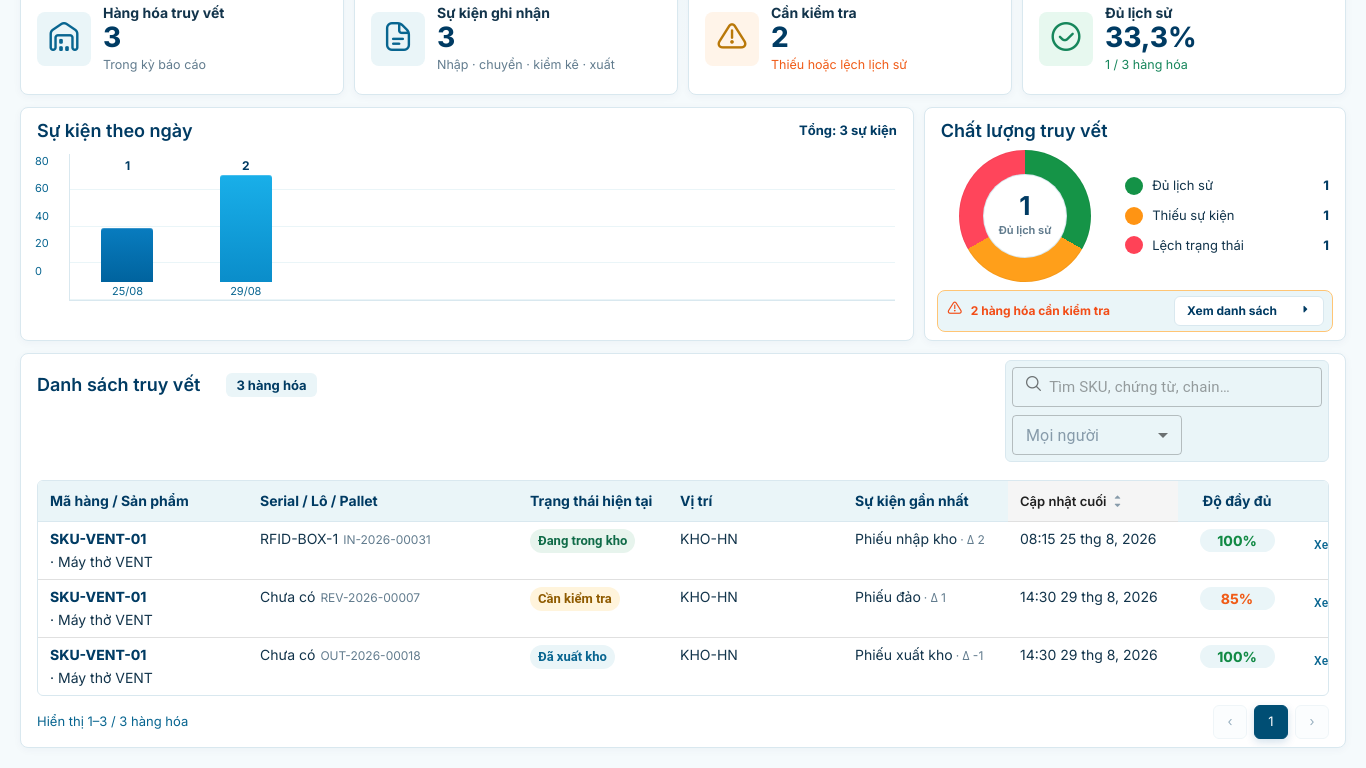
Test: RPT-MOV-01 · Truy vết hàng hóa › bấm một dòng ledger mở drawer bằng chứng chỉ đọc của đúng movement
The width and height of the screenshot is (1366, 768).
(page scrolled)
Expected: the text "OUT-2026-00018" is shown, top-left (320, 646), bottom-right (421, 666)
What coordinates should you click on to do the following:
click the text "OUT-2026-00018"
I would click on:
 (98, 654)
Its box is top-left (38, 637), bottom-right (1365, 695).
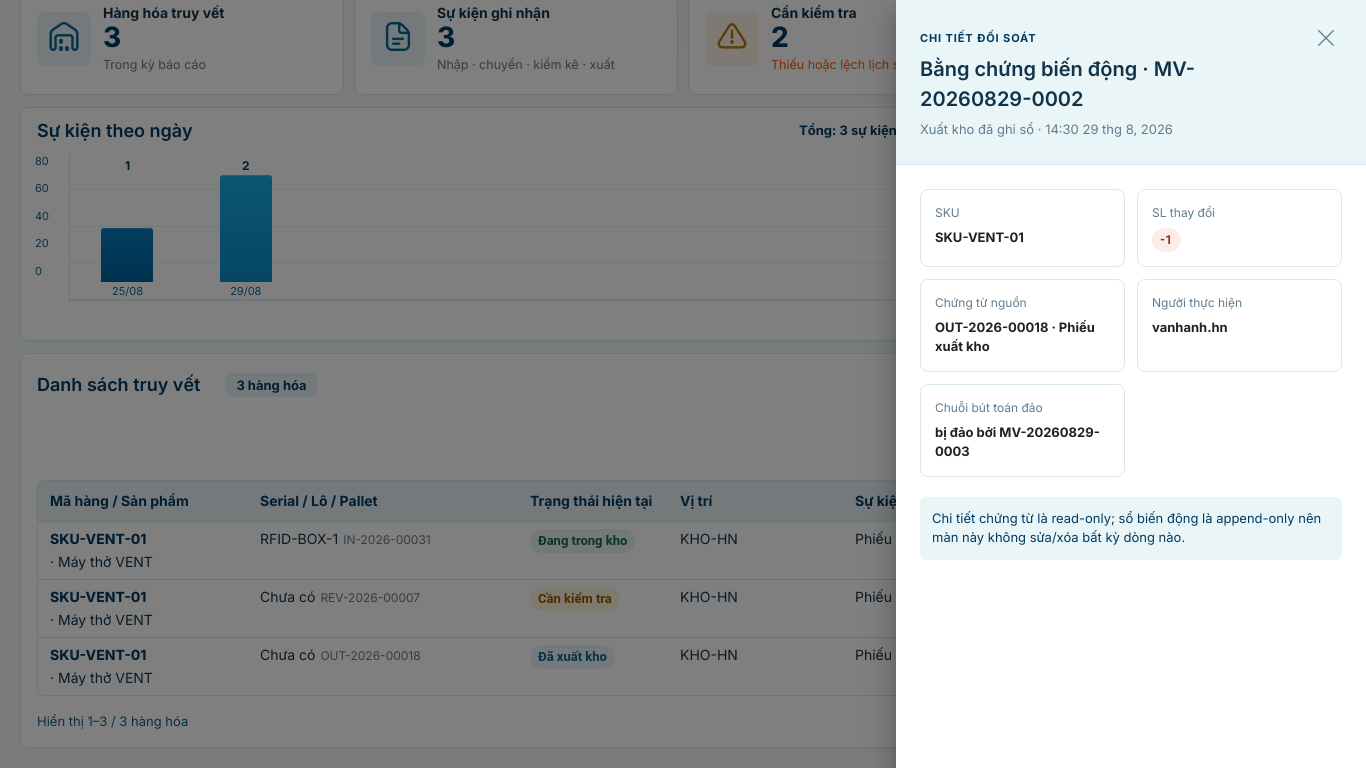
Now the text "Xuất kho đã ghi sổ · 14:30 29 thg 8, 2026" is shown, box top-left (920, 121), bottom-right (1173, 137)
Now the text "OUT-2026-00018 · Phiếu xuất kho" is shown, box top-left (935, 318), bottom-right (1110, 356)
Now the text "vanhanh.hn" is shown, box top-left (1152, 318), bottom-right (1228, 334)
